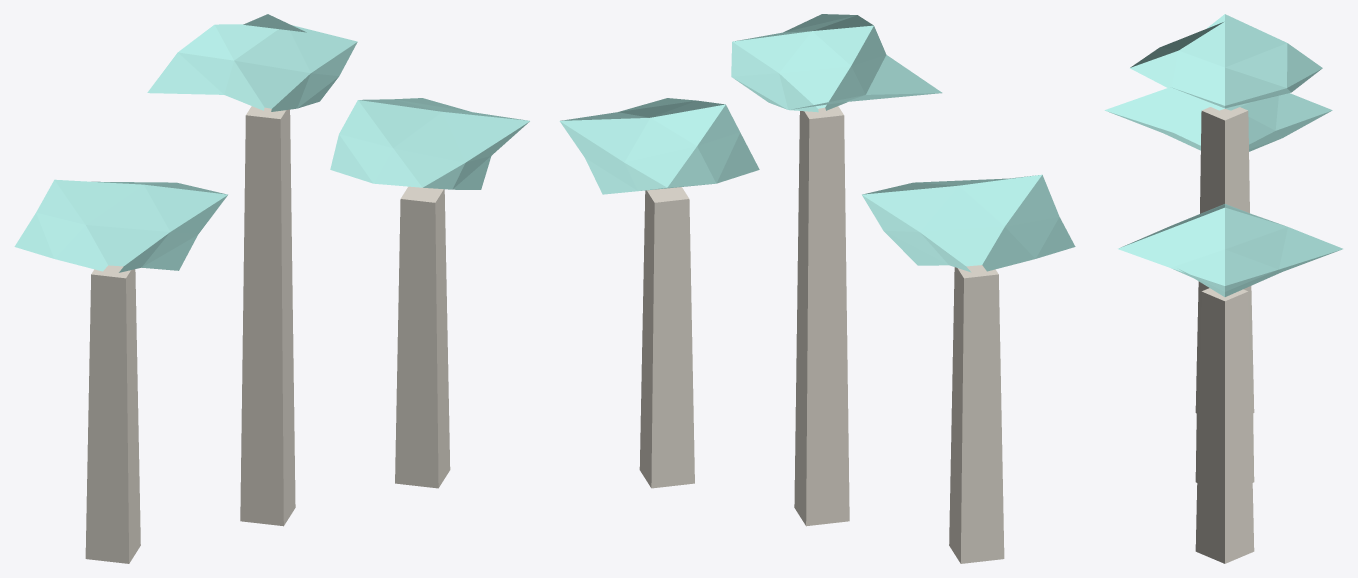
File: glowcap_v04.glb
3 views of the same model, side by side, from view 1: azimuth 30°, elevation 25°; view 2: azimuth 150°, elevation 25°; view 3: azimuth 270°, elevation 25° (orthographic). The views are drawn at different scales.
Parts seen in each view (by area): view 1: lod0; view 2: lod0; view 3: lod0.
Part boxes in pixels (x1=…): lod0: x1=14, y1=14, x2=529, y2=563; lod0: x1=559, y1=14, x2=1075, y2=563; lod0: x1=1104, y1=14, x2=1342, y2=563.
Size of what is drawn, in the model's own units: 0.4671 by 0.4329 by 0.2045.
